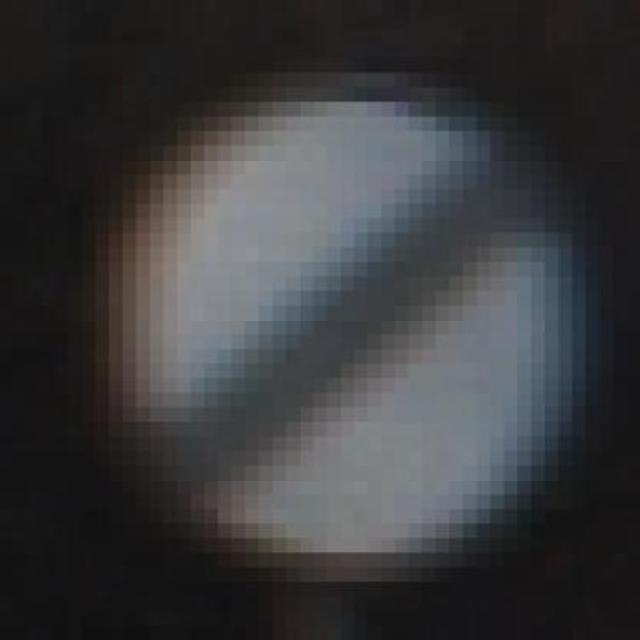End of all speed and passing limits: (96, 73, 586, 553)
